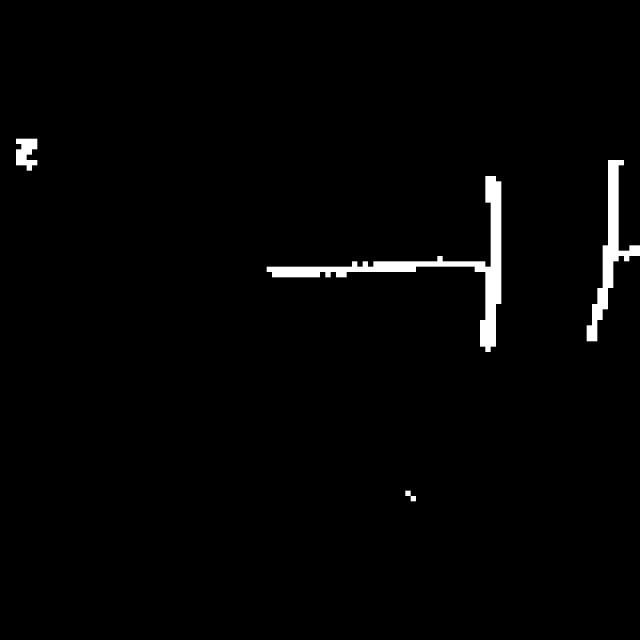capacitor: (470, 146, 629, 365)
